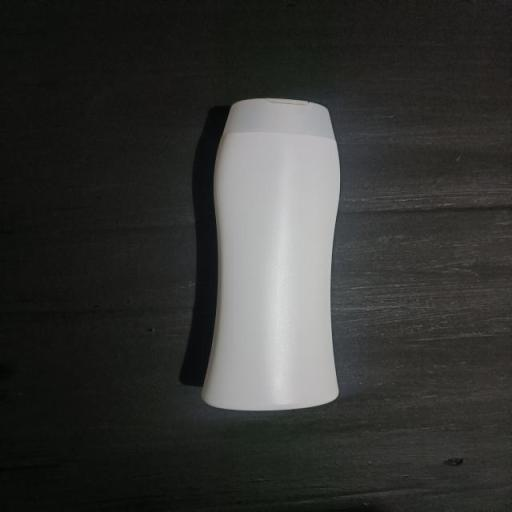plastic: (165, 73, 393, 425)
